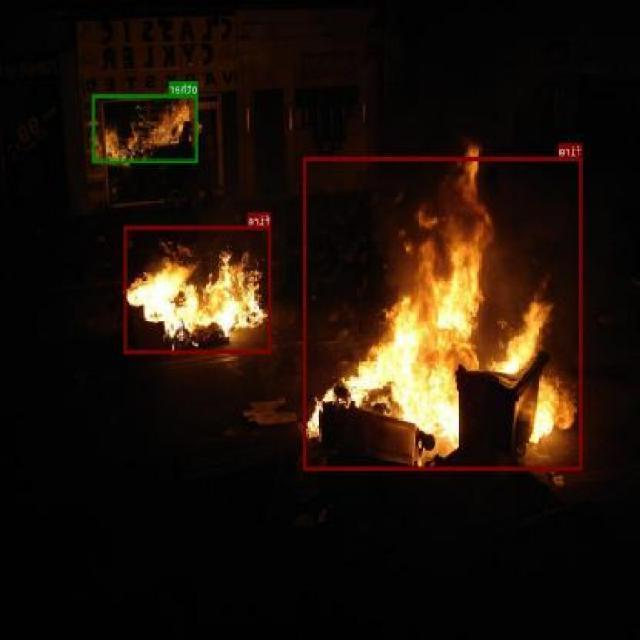Fire: (304, 156, 584, 470), (125, 226, 272, 352), (91, 94, 200, 154)
